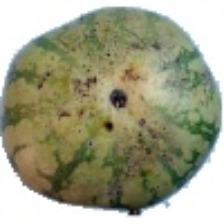watermelon: (27, 27, 170, 183)
